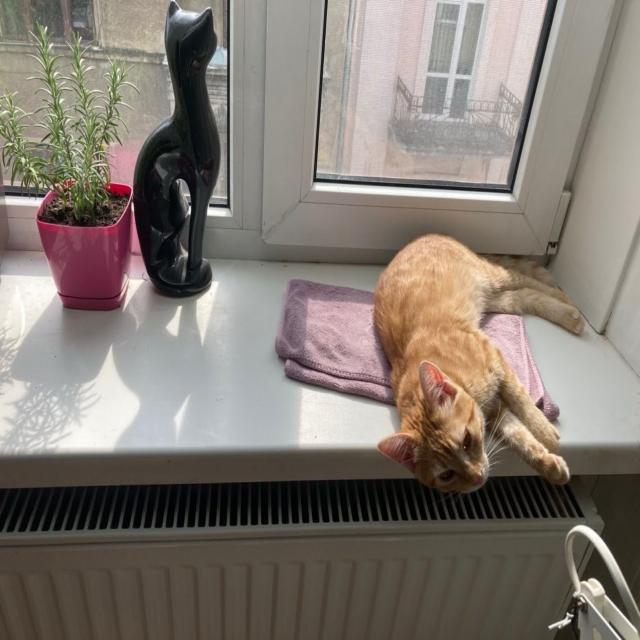red_cat: (370, 229, 595, 509)
